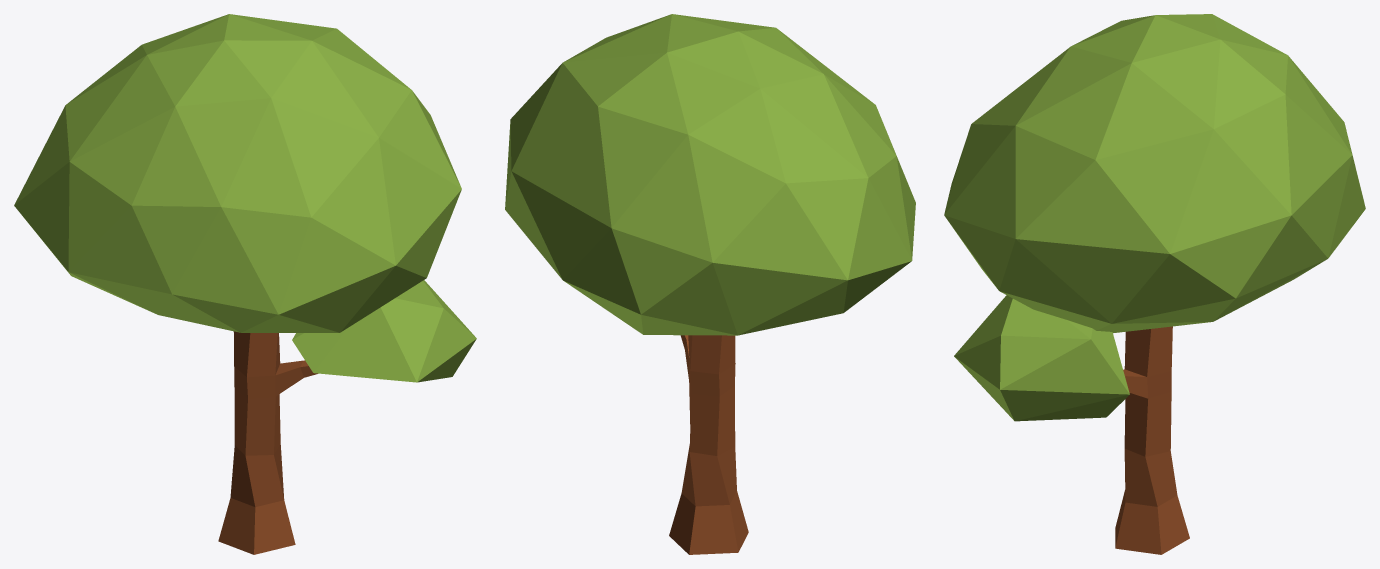
File: Tree.fbx
3 views of the same model, side by side, from view 1: azimuth 30°, elevation 25°; view 2: azimuth 150°, elevation 25°; view 3: azimuth 270°, elevation 25° (orthographic). The views are drawn at different scales.
Parts seen in each view (by area): view 1: Bush1, Bark, Bush2; view 2: Bush1, Bark; view 3: Bush1, Bush2, Bark.
Part boxes in pixels (bbox=[...]): Bush1: bbox=[14, 14, 461, 332]; Bark: bbox=[218, 331, 317, 554]; Bush2: bbox=[292, 280, 476, 382]; Bush1: bbox=[505, 14, 915, 335]; Bark: bbox=[669, 335, 748, 554]; Bush1: bbox=[944, 14, 1365, 333]; Bush2: bbox=[954, 295, 1129, 421]; Bark: bbox=[1115, 326, 1189, 554].
Size of the model in its own units: 1197 by 1530 by 1151.
